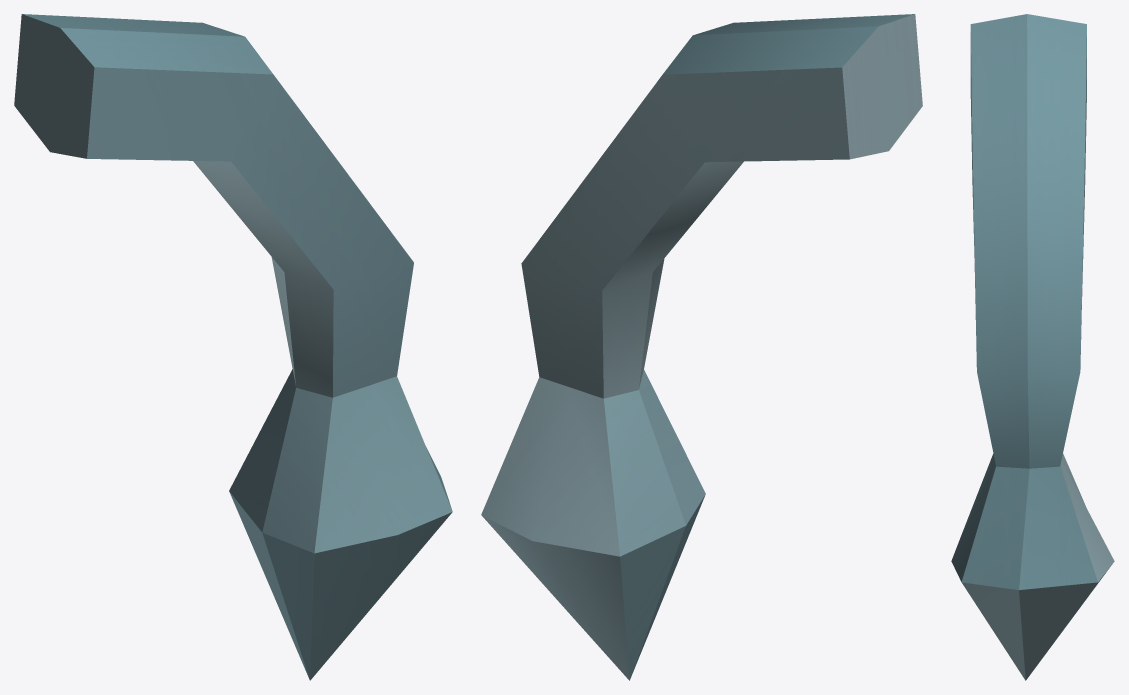
Rendered from SM_Hippo_tail.fbx.
The picture shows the model from 3 angles, left to right: view 1: azimuth 30°, elevation 25°; view 2: azimuth 150°, elevation 25°; view 3: azimuth 270°, elevation 25°; orthographic projection. The views are drawn at different scales.
Visible parts, largest first — view 1: SM_Hippo_tail; view 2: SM_Hippo_tail; view 3: SM_Hippo_tail.
Boxes of the visible parts, <box> form: SM_Hippo_tail: <box>14,14,452,680</box>; SM_Hippo_tail: <box>481,14,922,680</box>; SM_Hippo_tail: <box>951,14,1114,680</box>.
Size of the model in its own units: 11.22 by 19.8 by 5.14.
